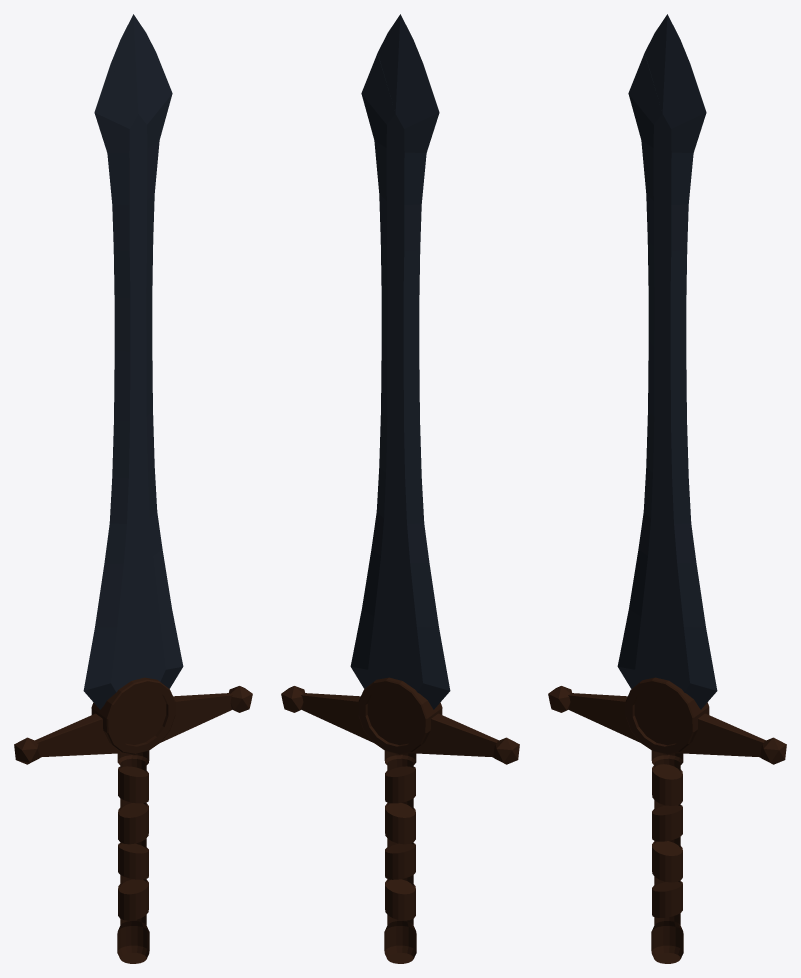
File: sword.obj
3 renders of one model, left to right at view 1: azimuth 30°, elevation 25°; view 2: azimuth 150°, elevation 25°; view 3: azimuth 330°, elevation 25°, orthographic.
Parts seen in each view (by area): view 1: Blade; view 2: Blade; view 3: Blade.
Part boxes in pixels (x1,y1,x2,y2): Blade: (14, 14, 252, 963); Blade: (281, 14, 519, 963); Blade: (548, 14, 786, 963).
Size of the model in its own units: 0.2973 by 1.14 by 0.036.
